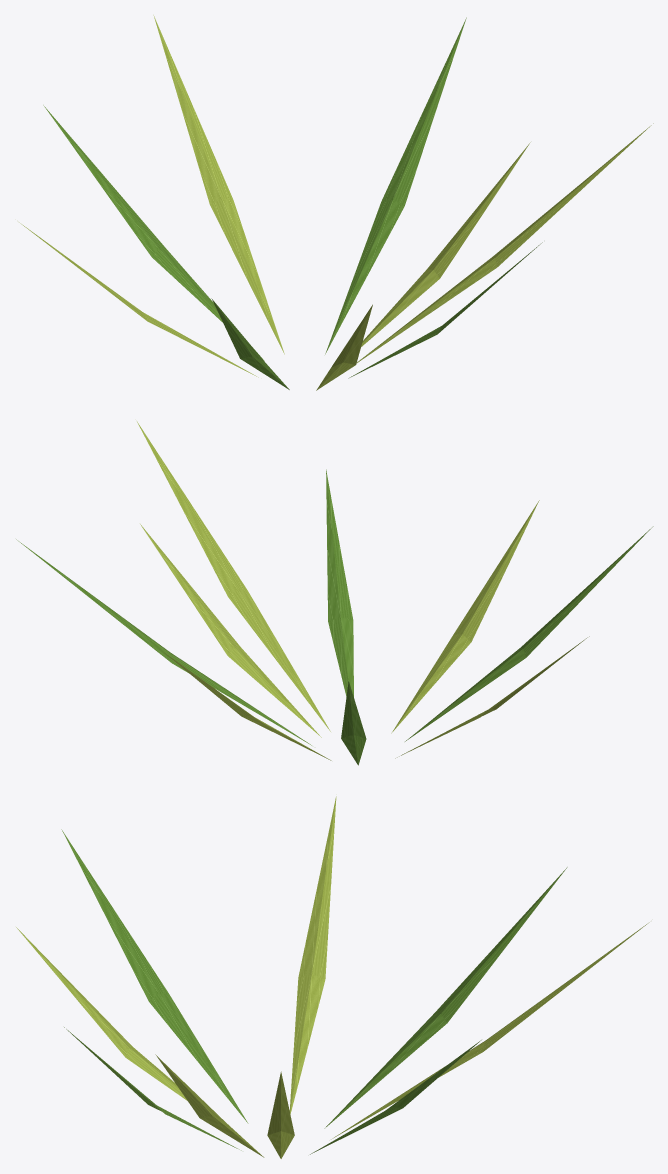
The model's file is crop-scallion-young.glb.
The picture shows the model from 3 angles, top to bottom: view 1: azimuth 30°, elevation 25°; view 2: azimuth 150°, elevation 25°; view 3: azimuth 270°, elevation 25°; orthographic projection. The views are drawn at different scales.
Visible parts, largest first — view 1: crop-scallion-young; view 2: crop-scallion-young; view 3: crop-scallion-young.
Boxes of the visible parts, x1,y1,x2,y2 form: crop-scallion-young: (19,15,653,390); crop-scallion-young: (16,421,653,765); crop-scallion-young: (16,796,649,1158).
Size of the model in its own units: 0.7822 by 0.3002 by 0.7439.
Materials: 1 (1 with a texture image).
